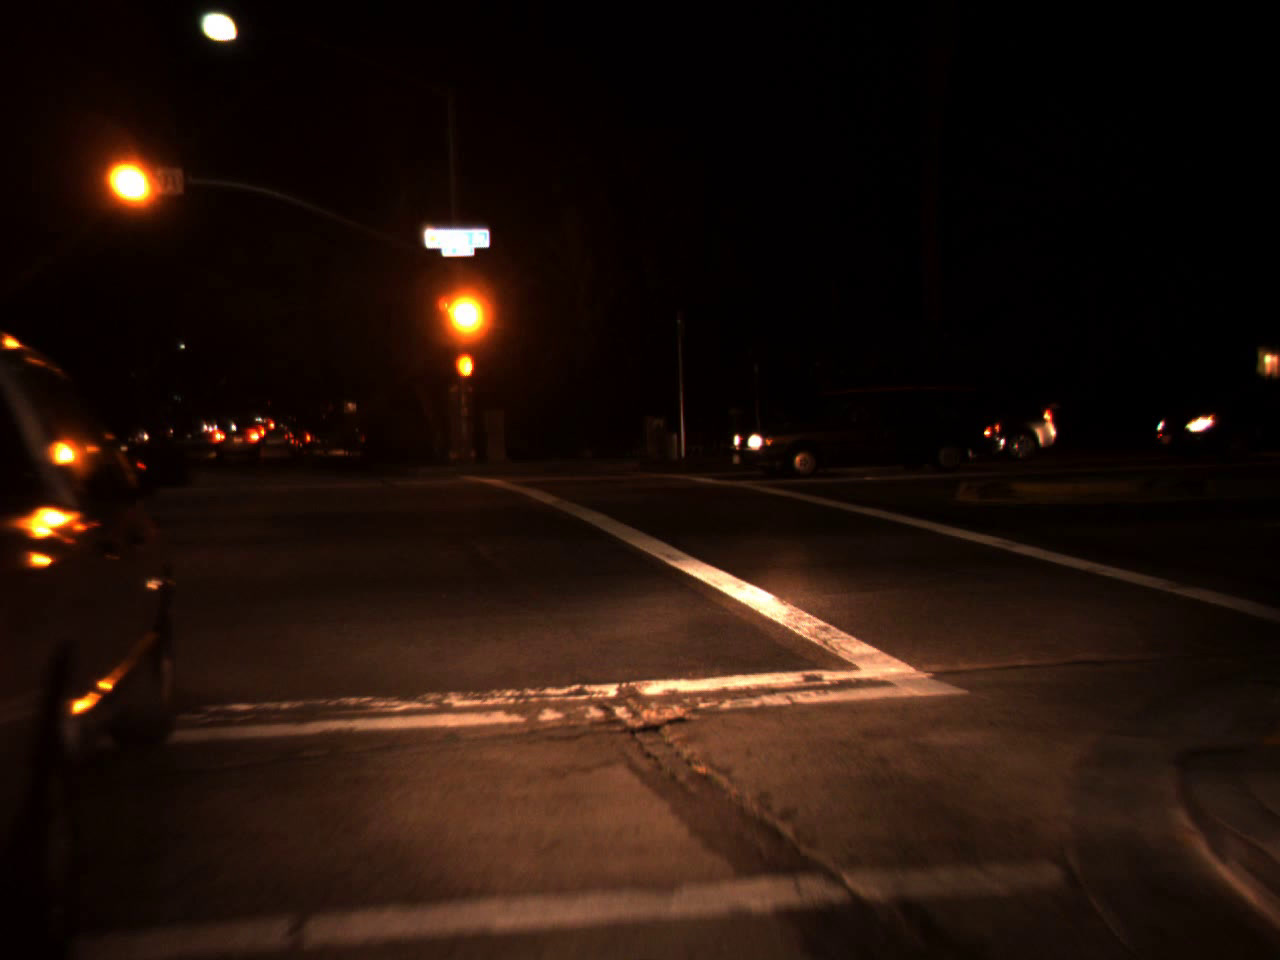warning: (447, 285, 484, 340), (113, 156, 150, 208)
